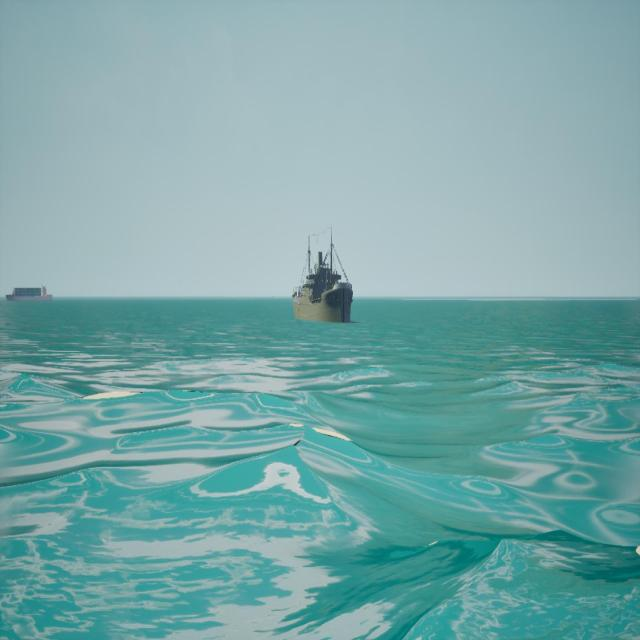fishing ship: (290, 226, 358, 331)
